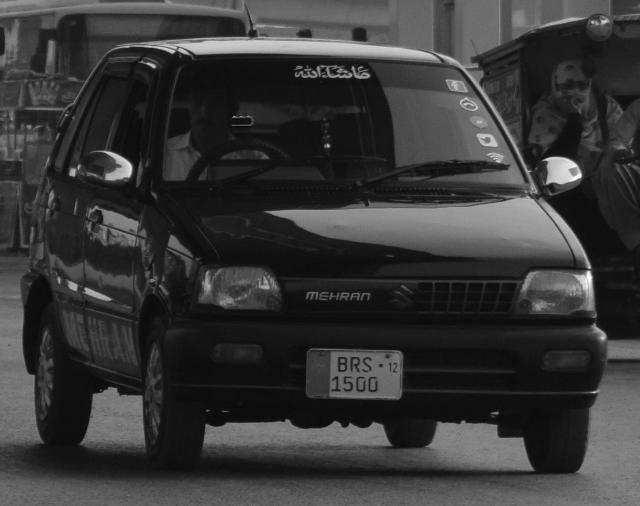Number: (331, 354, 382, 394)
